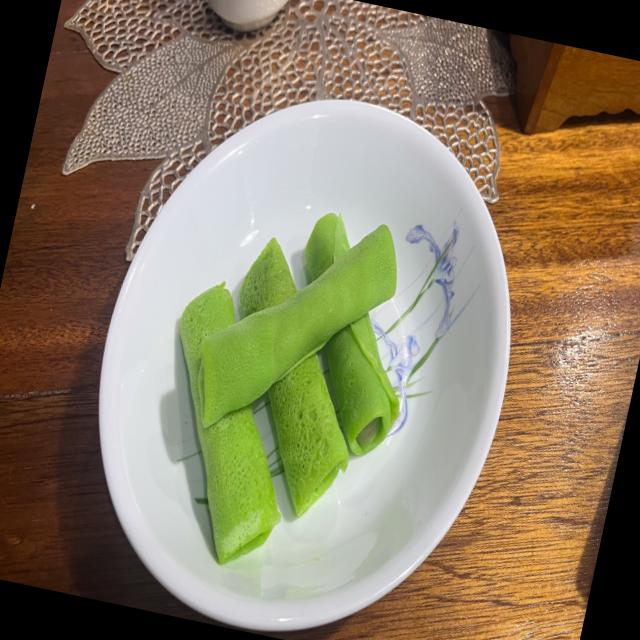Kuih-Ketayap: (198, 224, 397, 426), (178, 283, 280, 563), (268, 353, 348, 516), (326, 314, 399, 454), (238, 237, 296, 317), (304, 213, 349, 280)
